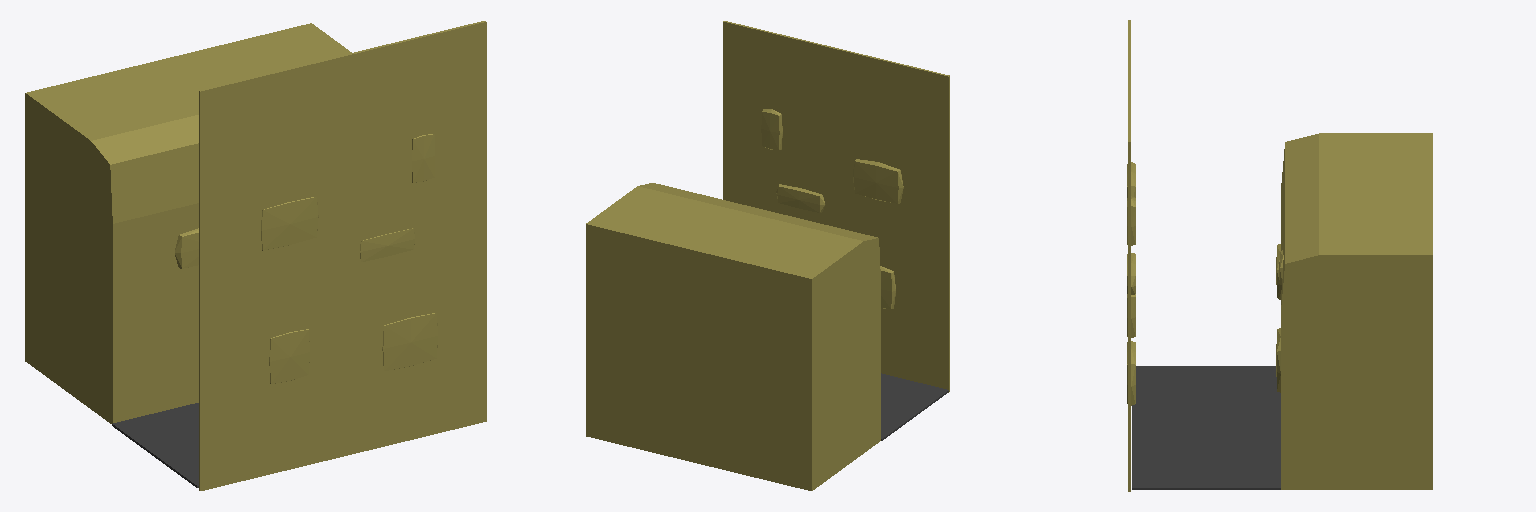
URDF robot description (obstacle):
<?xml version="1.0"?>
<robot name="obstacle">
  <link name="base_link">
    <inertial>
      <origin xyz="0 0 0" /> 
      <mass value="1.0" />
      <inertia  ixx="1.0" ixy="0.0"  ixz="0.0"  iyy="1.0"  iyz="0.0"  izz="1.0" />
    </inertial>
    <visual>
      <origin xyz="0 0 0"/>
      <geometry>
        <mesh filename="package://hpp-rbprm-corba/meshes/parkour_walls.dae"/>
      </geometry>
    </visual>
    <collision>
      <origin xyz="0 0 0"/>
      <geometry>
        <mesh filename="package://hpp-rbprm-corba/meshes/parkour_walls.stl"/>
      </geometry>
    </collision>
  </link>
</robot>

--- What the picture shows (computed from the rendered views, not written in the file) ---
Views: 3 orthographic renders of the robot side by side, from view 1: azimuth 30°, elevation 25°; view 2: azimuth 150°, elevation 25°; view 3: azimuth 270°, elevation 25°.
Robot: obstacle — 1 links, 0 joints (none); root link base_link; default pose: every joint at zero.
Links seen in each view (by area): view 1: base_link; view 2: base_link; view 3: base_link.
Boxes of the visible links, bbox=[...] form: base_link: bbox=[25, 21, 486, 490]; base_link: bbox=[586, 21, 949, 490]; base_link: bbox=[1127, 20, 1432, 491].
Size in the robot's own frame: 4.89 by 5.16 by 6.48 metres.
1 mesh visuals loaded from 1 distinct referenced files (1 Collada DAE).